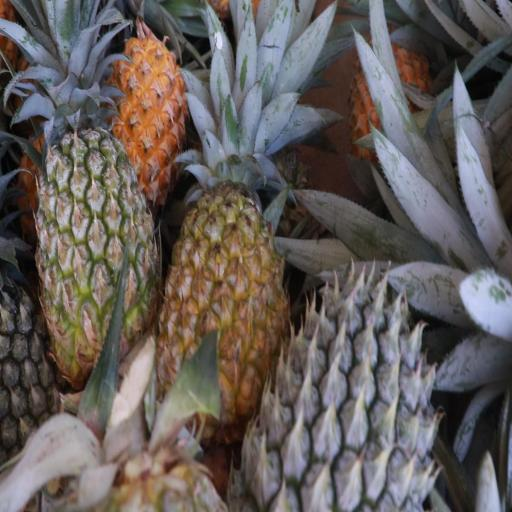------------------------------: (29, 121, 149, 354)
Pineapple - v8 v1: (156, 155, 277, 416), (68, 30, 186, 168), (350, 38, 430, 148)
